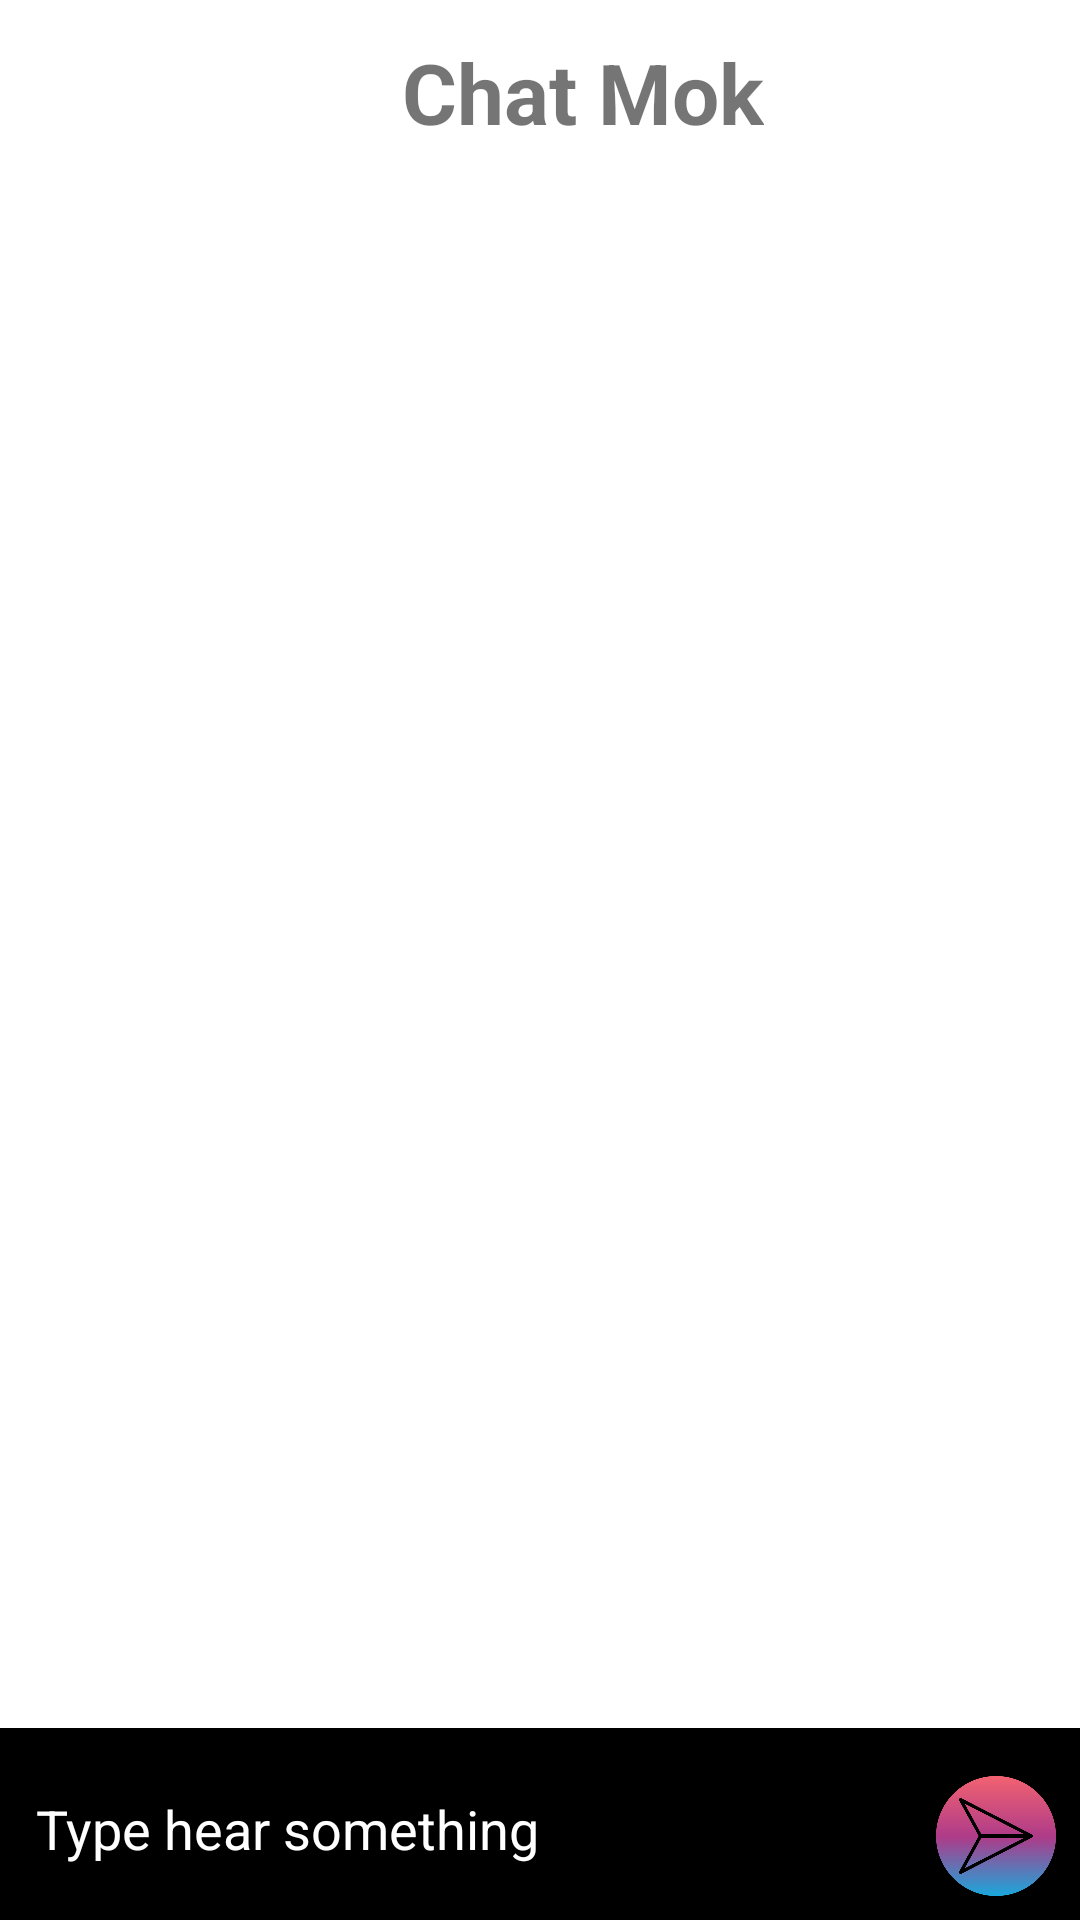

Icons on this 1080px x 1920px Android screen, each with the point to tap as (x,y):
send: (996,1836)
